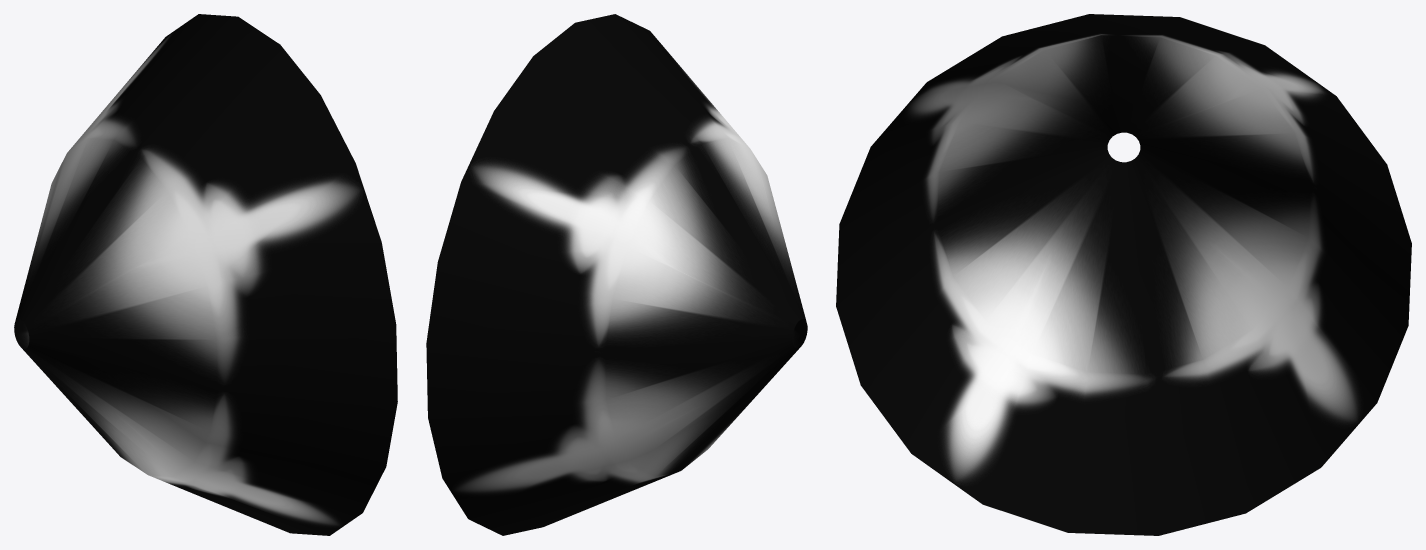
File: MuzzleFlash_smallCone.fbx
The picture shows the model from 3 angles, left to right: view 1: azimuth 30°, elevation 25°; view 2: azimuth 150°, elevation 25°; view 3: azimuth 270°, elevation 25°; orthographic projection. The views are drawn at different scales.
Parts seen in each view (by area): view 1: MuzzleFlash_smallCone; view 2: MuzzleFlash_smallCone; view 3: MuzzleFlash_smallCone.
Part boxes in pixels (x1,y1,x2,y2): MuzzleFlash_smallCone: (14,14,397,535); MuzzleFlash_smallCone: (426,14,807,535); MuzzleFlash_smallCone: (836,14,1411,535).
Bounding box in the file's own units: 30.49 × 58.2 × 58.2.
1 material, 1 textured.
